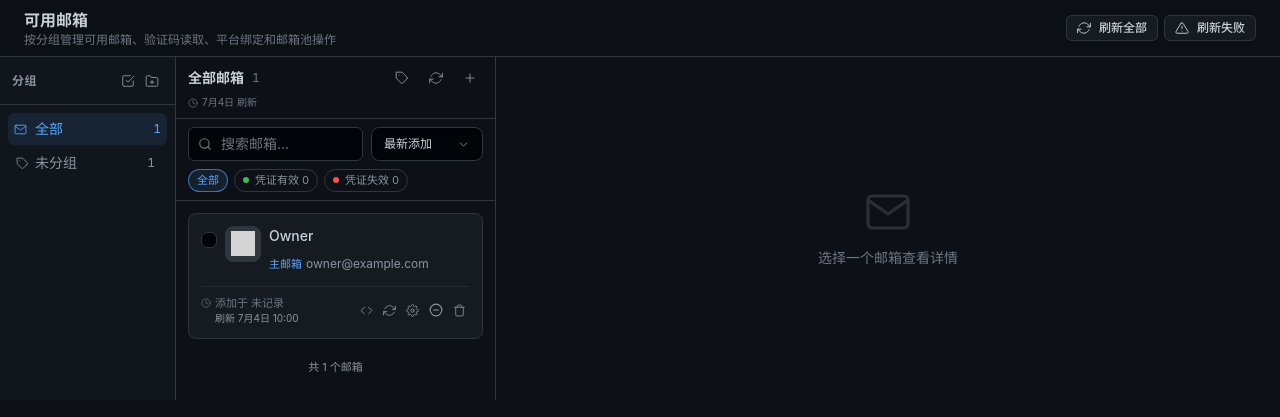
Test case: email detail uses cached verification history instead of live verification reads
Expected: the text "Owner" is shown, [269, 226, 313, 244]
Click the text "Owner" at (336, 276), box [188, 212, 483, 339]
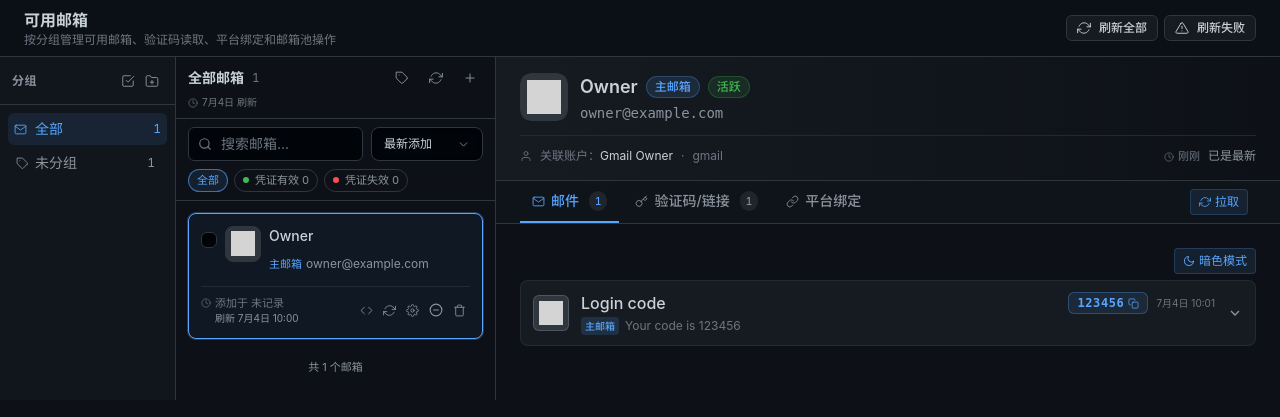
Now the text "Login code" is shown, box [581, 293, 666, 313]
